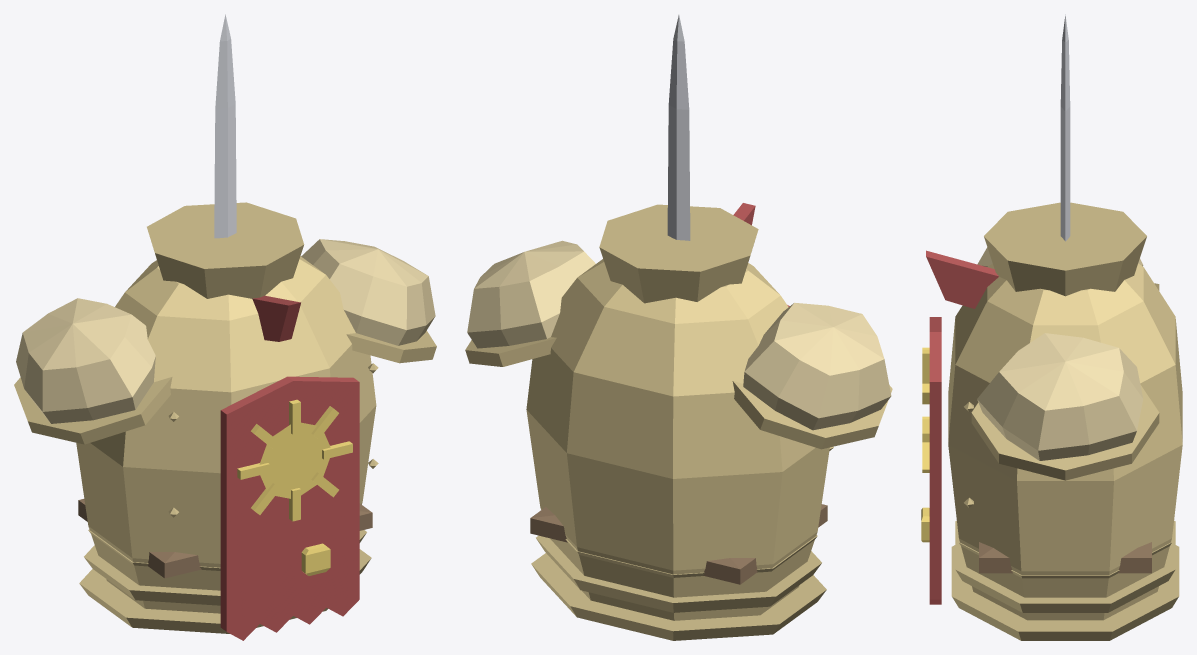
The model's file is vault_warden.glb.
3 renders of one model, left to right at view 1: azimuth 30°, elevation 25°; view 2: azimuth 150°, elevation 25°; view 3: azimuth 270°, elevation 25°, orthographic.
Visible parts, largest first — view 1: Torso, PauldronL, PauldronR, Weapon, Head; view 2: Torso, PauldronL, PauldronR, Weapon; view 3: Torso, PauldronR, Head, Weapon.
Boxes of the visible parts, left/top/right/bottom form: Torso: left=76, top=202, right=378, bottom=640; PauldronL: left=14, top=298, right=172, bottom=444; PauldronR: left=301, top=239, right=436, bottom=363; Weapon: left=214, top=14, right=236, bottom=238; Head: left=252, top=295, right=300, bottom=341; Torso: left=526, top=204, right=833, bottom=640; PauldronL: left=732, top=302, right=892, bottom=449; PauldronR: left=465, top=240, right=595, bottom=366; Weapon: left=667, top=15, right=690, bottom=240; Torso: left=921, top=202, right=1182, bottom=640; PauldronR: left=971, top=333, right=1159, bottom=480; Head: left=926, top=250, right=998, bottom=308; Weapon: left=1060, top=14, right=1070, bottom=241.
Size of the model in its own units: 0.952 by 1.31 by 0.5439.
